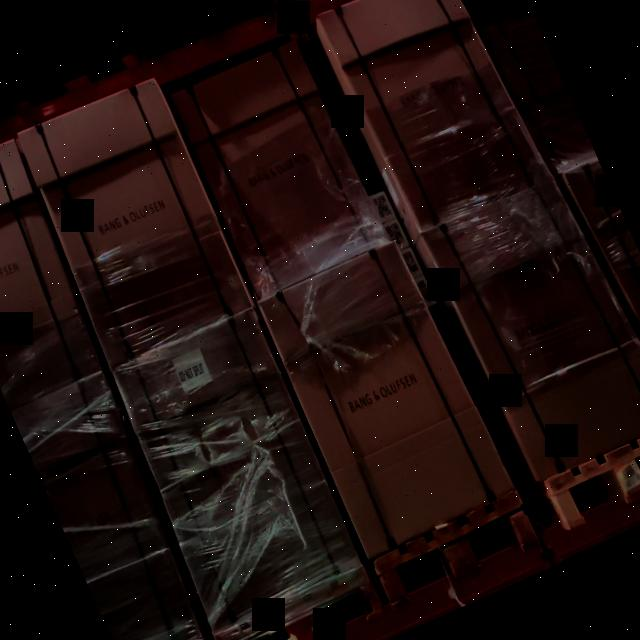box: (100, 304, 370, 624), (254, 234, 518, 556), (420, 171, 640, 481), (16, 78, 250, 362), (166, 34, 384, 296), (320, 0, 544, 227)
